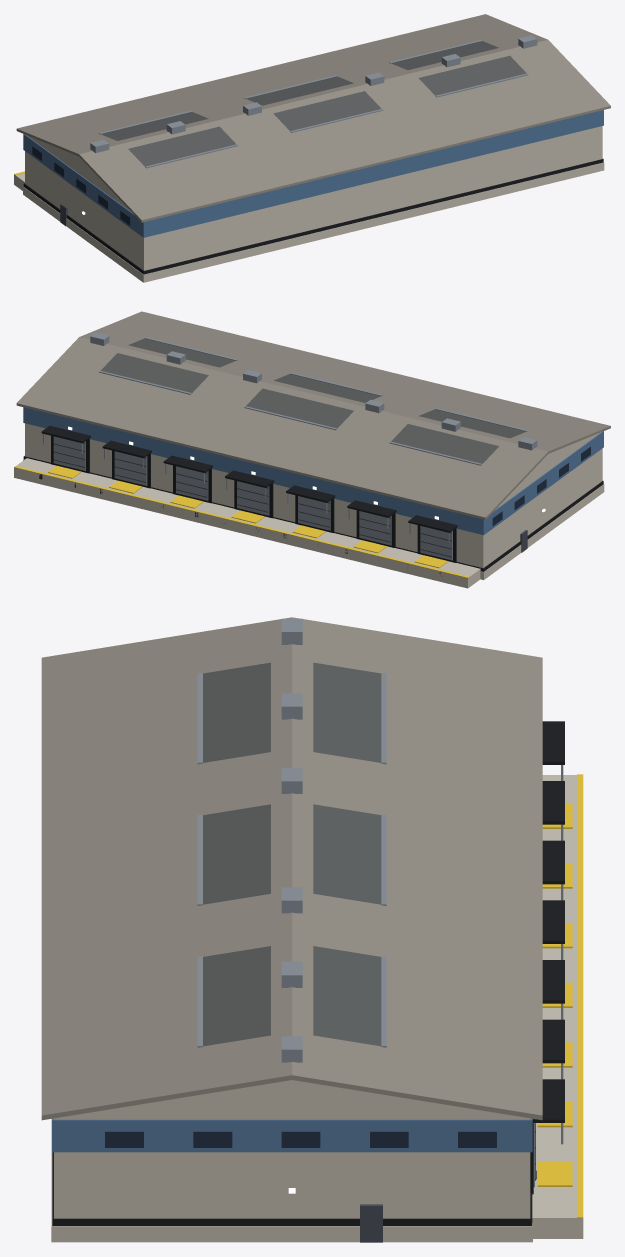
Rendered from warehouse_a.glb.
3 views of the same model, one above another, from view 1: azimuth 30°, elevation 25°; view 2: azimuth 150°, elevation 25°; view 3: azimuth 270°, elevation 25° (orthographic). The views are drawn at different scales.
Visible parts, largest first — view 1: Body; view 2: Body; view 3: Body.
Boxes of the visible parts, x1=… form: Body: x1=14, y1=14, x2=610, y2=282; Body: x1=14, y1=311, x2=610, y2=588; Body: x1=41, y1=617, x2=583, y2=1242.
Size of the model in its own units: 61.4 by 11.45 by 30.7.
